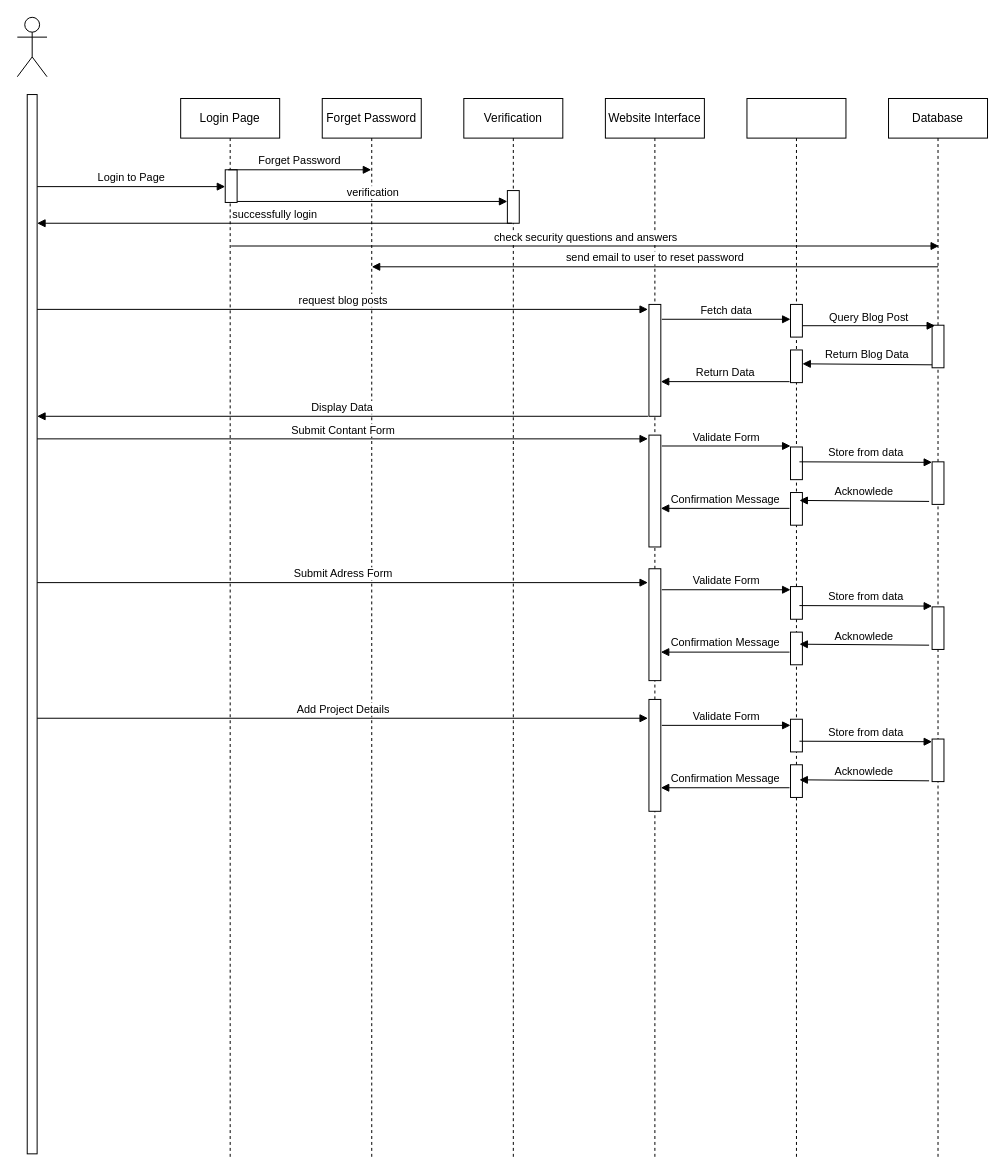
Image size: 1005x1175. Some labels were removed from this diagram. The shapes that lost their labels are listed below. From the top down, each one's box as (x1, y1, x2, y2) in pixels, then its label:
(16, 16, 47, 77): User
(746, 98, 846, 1158): Server
